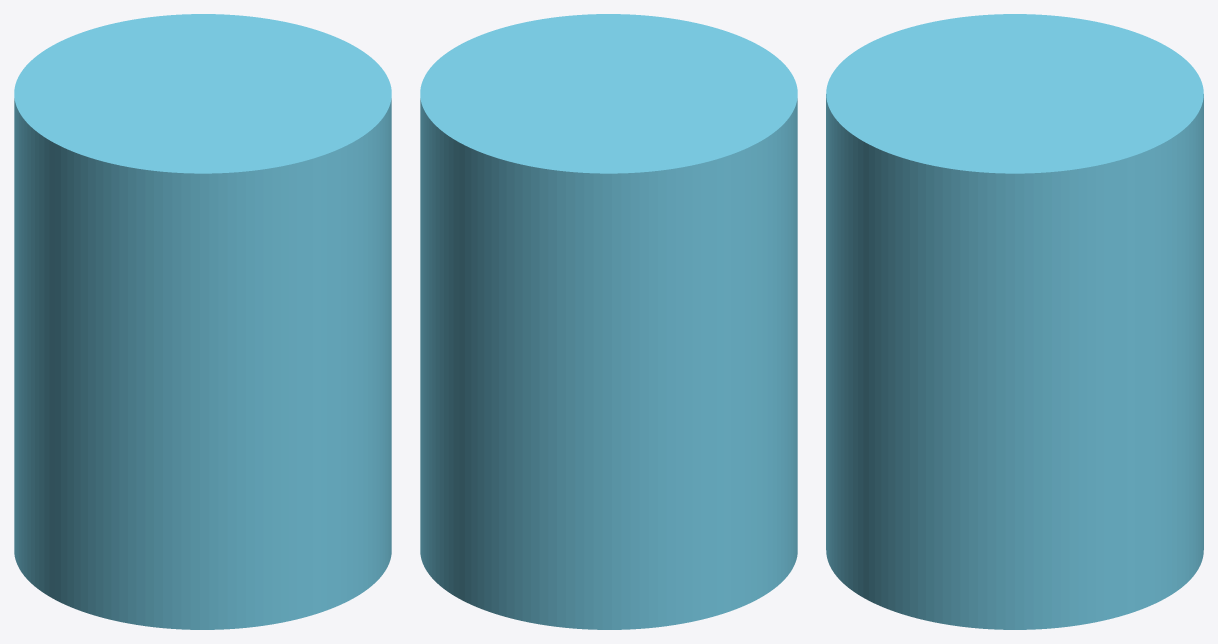
The model's file is kylindros.glb.
The picture shows the model from 3 angles, left to right: view 1: azimuth 30°, elevation 25°; view 2: azimuth 150°, elevation 25°; view 3: azimuth 270°, elevation 25°; orthographic projection.
Parts seen in each view (by area): view 1: kylindros_0; view 2: kylindros_0; view 3: kylindros_0.
Part boxes in pixels (box(x1,y1,x2,y2)): kylindros_0: box(14, 14, 391, 629); kylindros_0: box(420, 14, 797, 629); kylindros_0: box(826, 14, 1203, 629).
Bounding box in the file's own units: 0.15 × 0.2 × 0.15.
